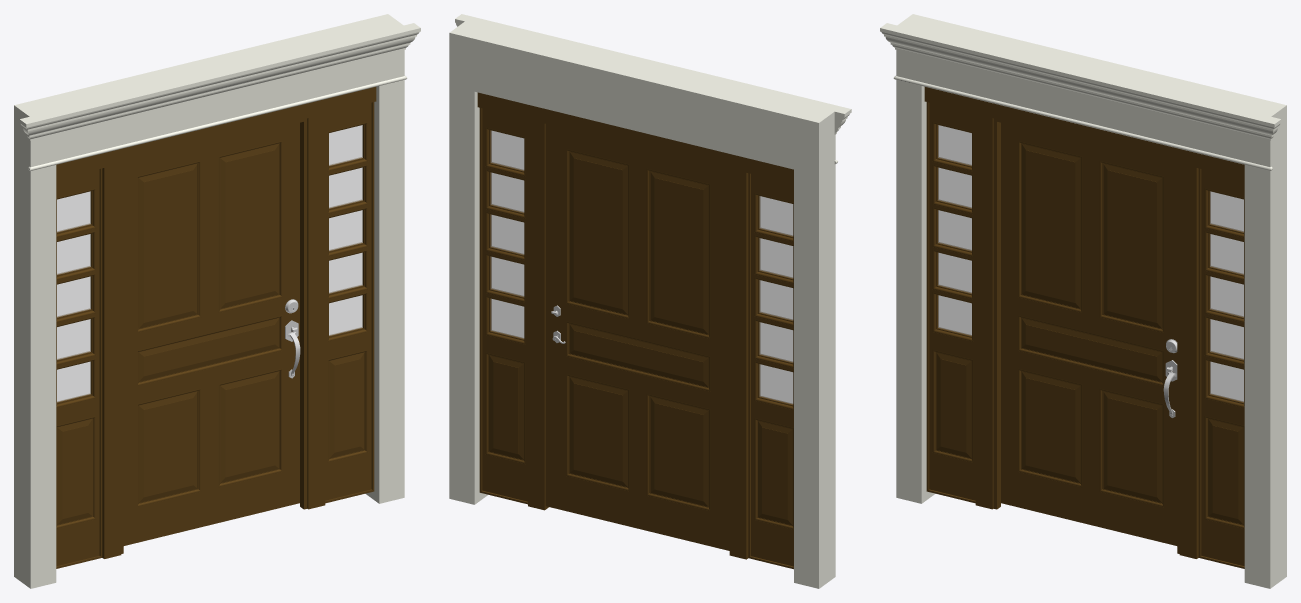
The model's file is embellished_front_door_3.glb.
3 views of the same model, side by side, from view 1: azimuth 30°, elevation 25°; view 2: azimuth 150°, elevation 25°; view 3: azimuth 330°, elevation 25° (orthographic).
Visible parts, largest first — view 1: Material2 (×36); view 2: Material2 (×36); view 3: Material2 (×36).
Part boxes in pixels (<box>): Material2 (×36): <box>14,14,420,588</box>; Material2 (×36): <box>449,14,851,588</box>; Material2 (×36): <box>880,14,1286,588</box>.
Bounding box in the file's own units: 91.34 × 104 × 9.06.
